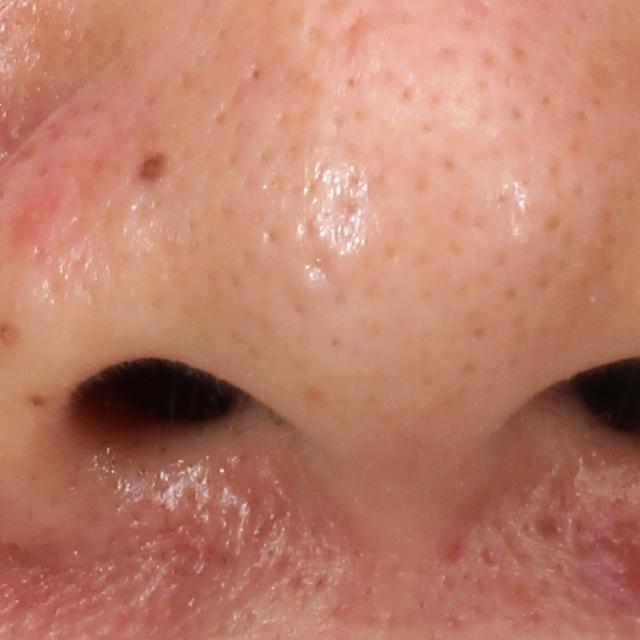atrophic_scar: (533, 510, 580, 554), (301, 248, 336, 288)
nevus: (137, 148, 171, 183)
